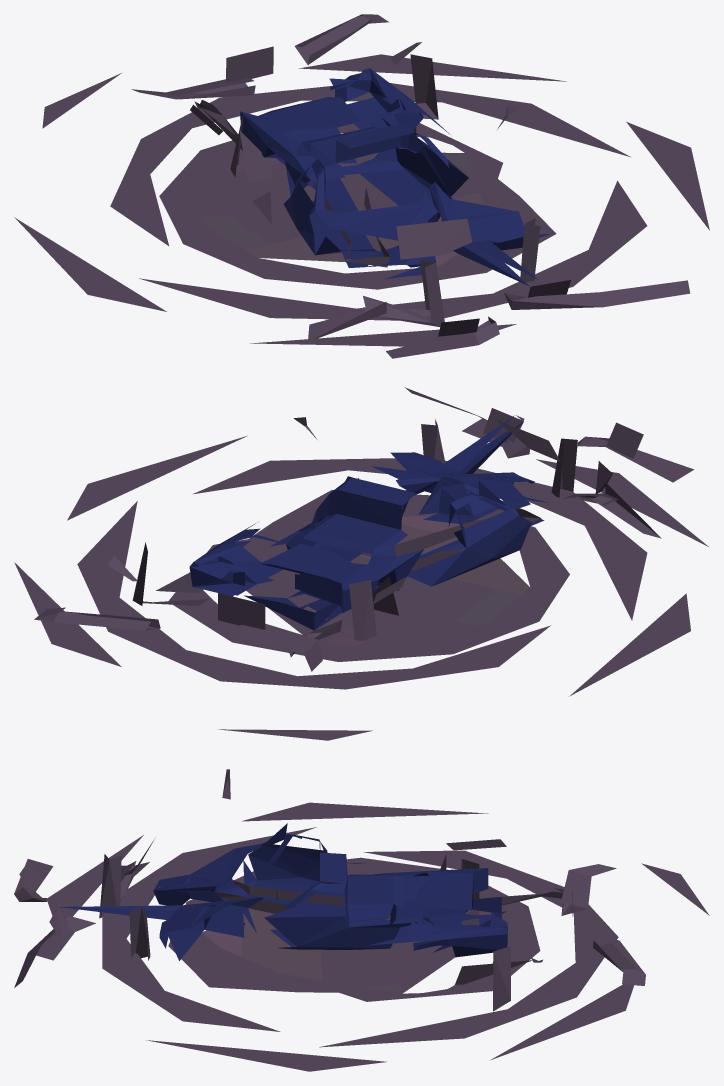
Rendered from 243_wreck_sedan.gltf.
3 views of the same model, one above another, from view 1: azimuth 30°, elevation 25°; view 2: azimuth 150°, elevation 25°; view 3: azimuth 270°, elevation 25° (orthographic). The views are drawn at different scales.
Parts seen in each view (by area): view 1: wreck_sedan; view 2: wreck_sedan; view 3: wreck_sedan.
Boxes of the visible parts, x1,y1,x2,y2 form: wreck_sedan: (14, 14, 709, 358); wreck_sedan: (14, 387, 708, 740); wreck_sedan: (14, 769, 709, 1071).
Bounding box in the file's own units: 15.12 × 2.68 × 16.52.
Materials: 1 (1 with a texture image).
